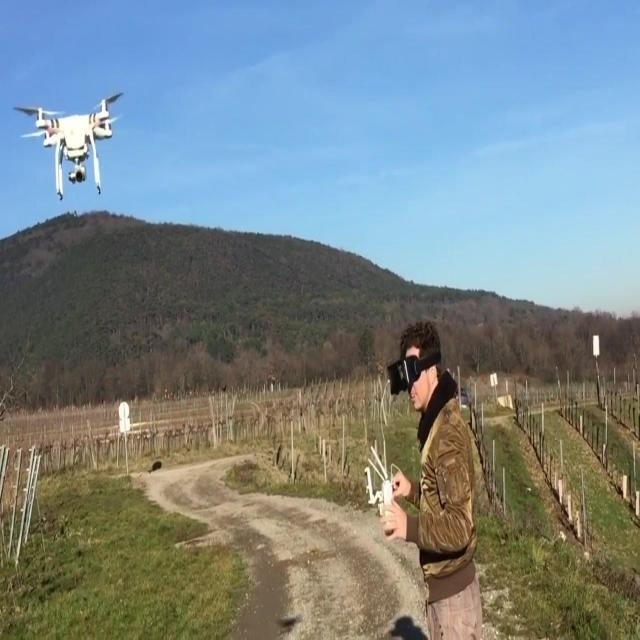UAV: (32, 91, 116, 202)
